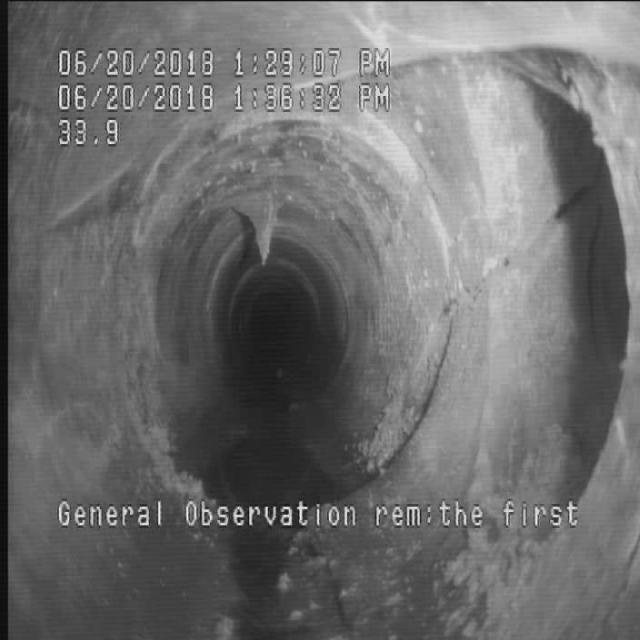Fracture: (392, 184, 591, 459)
